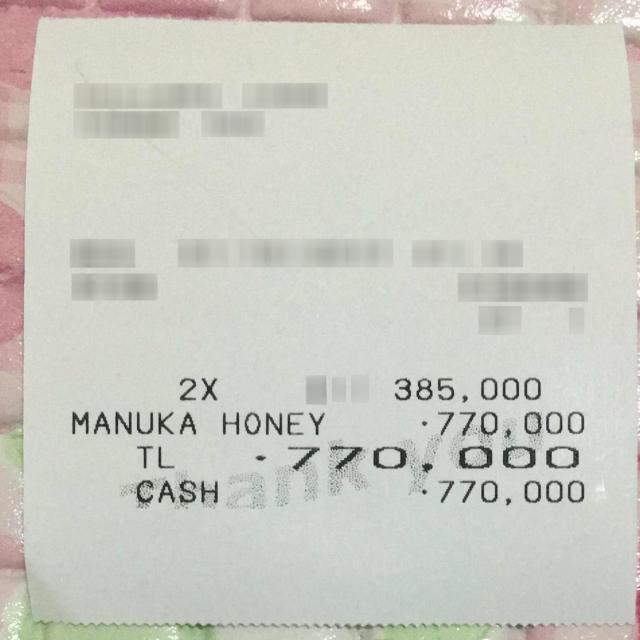text: (254, 444, 581, 474), (422, 410, 587, 437), (439, 478, 583, 505), (395, 377, 540, 402), (71, 411, 195, 434), (222, 412, 324, 435), (134, 478, 217, 505), (179, 376, 218, 401), (138, 446, 172, 468)
